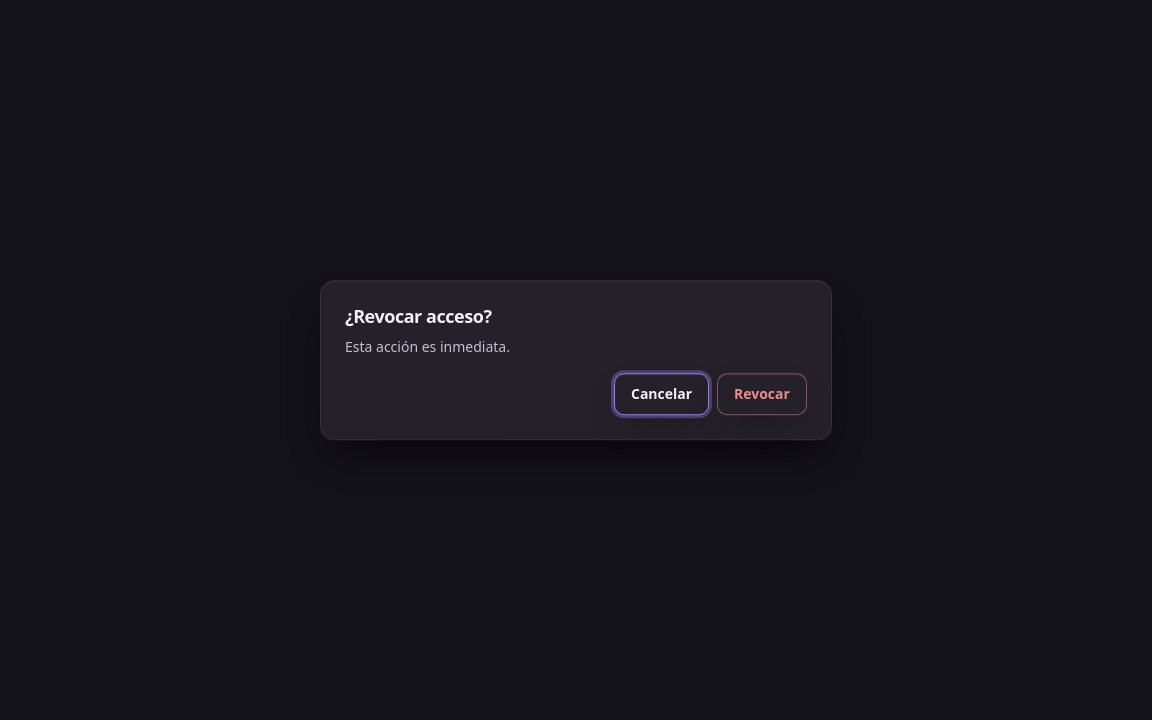
Test case: Dialog component contract › supports primary/danger footer actions and blocks repeated execution while pending
Later steps or results of the test are not shown.
Step 1. Click the button "Revocar" → click(762, 394), box [717, 373, 807, 415]
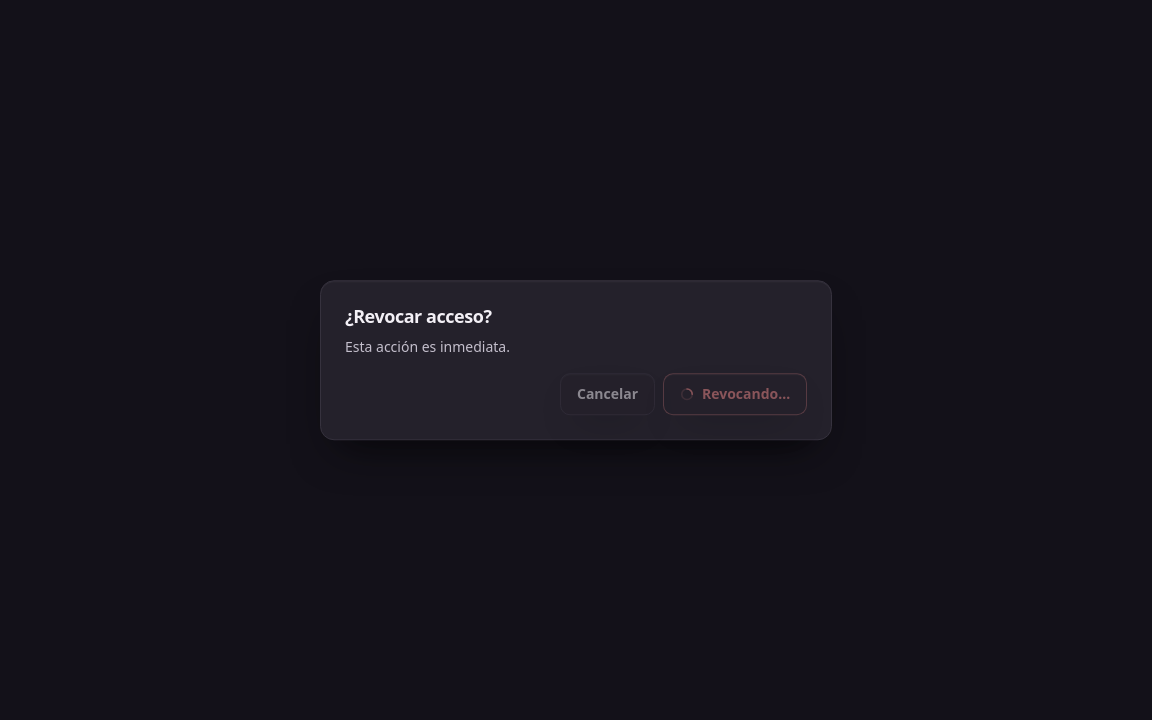
Now the button "Revocando…" is disabled, box [663, 373, 807, 415]
Now the button "Cancelar" is disabled, box [560, 373, 655, 415]
